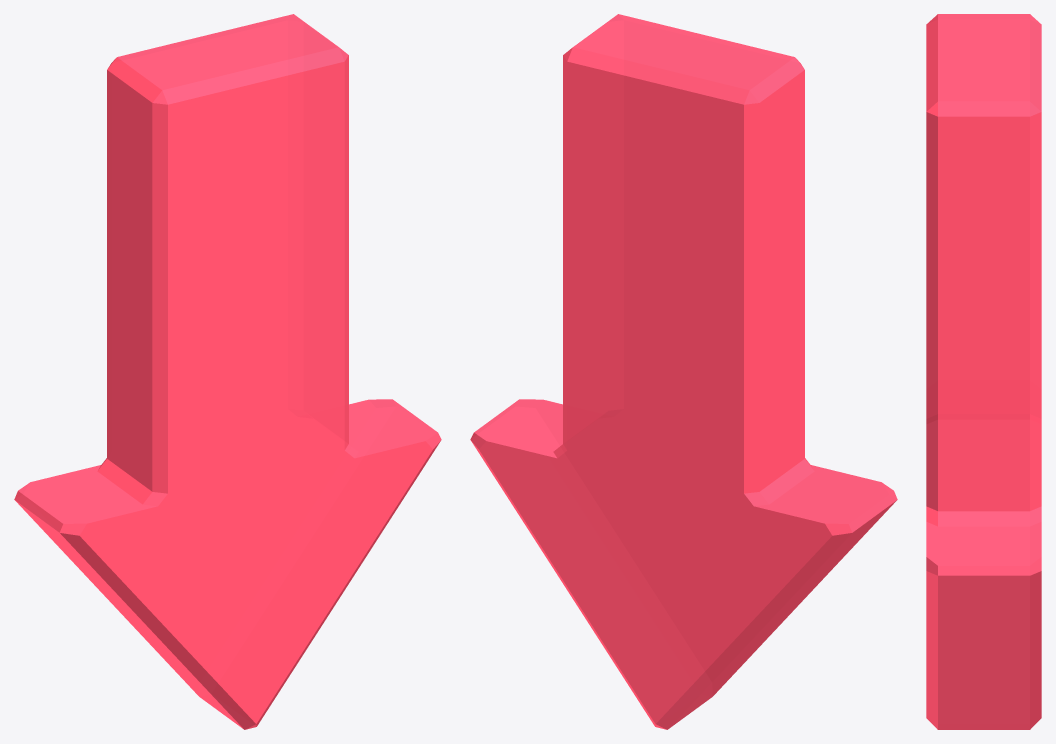
The model's file is Arrow.fbx.
The picture shows the model from 3 angles, left to right: view 1: azimuth 30°, elevation 25°; view 2: azimuth 150°, elevation 25°; view 3: azimuth 270°, elevation 25°; orthographic projection.
Parts seen in each view (by area): view 1: Cube; view 2: Cube; view 3: Cube.
Boxes of the visible parts, x1=… form: Cube: x1=14, y1=14, x2=441, y2=729; Cube: x1=470, y1=14, x2=897, y2=729; Cube: x1=926, y1=14, x2=1041, y2=729.
Size of the model in its own units: 389 by 642 by 100.
